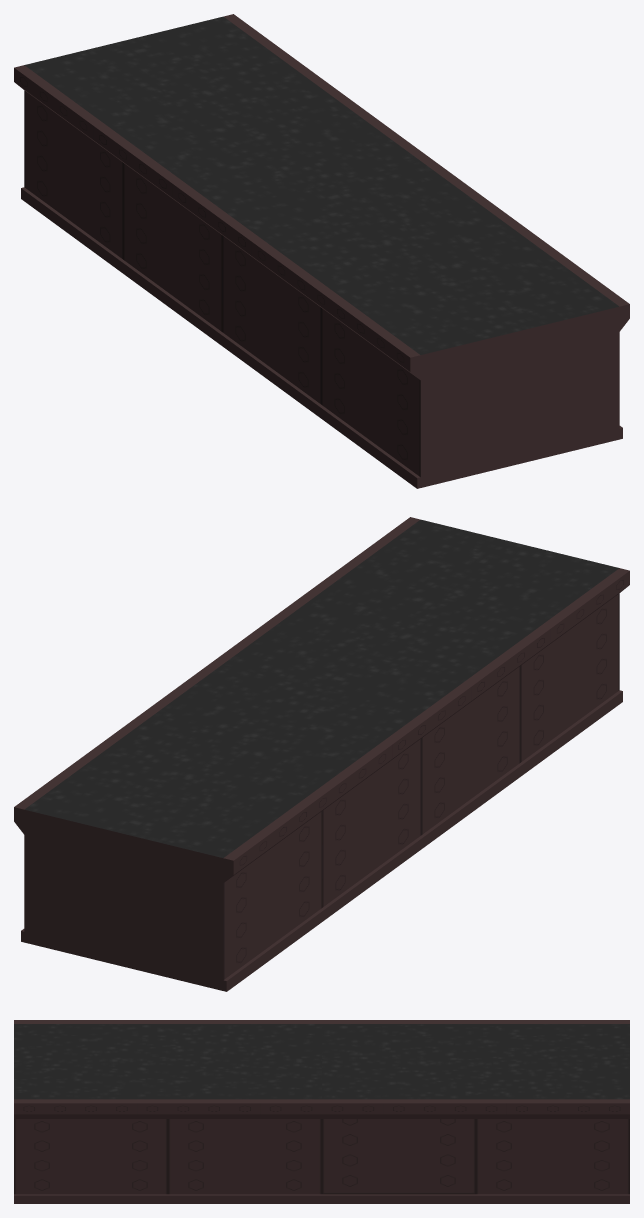
Rendered from SW_ENV_EL_TrackBase_10m.fbx.
3 renders of one model, top to bottom at view 1: azimuth 30°, elevation 25°; view 2: azimuth 150°, elevation 25°; view 3: azimuth 270°, elevation 25°, orthographic. The views are drawn at different scales.
Visible parts, largest first — view 1: SW_ENV_EL_TrackBase_10m; view 2: SW_ENV_EL_TrackBase_10m; view 3: SW_ENV_EL_TrackBase_10m.
Boxes of the visible parts, x1=… form: SW_ENV_EL_TrackBase_10m: x1=14, y1=14, x2=629, y2=488; SW_ENV_EL_TrackBase_10m: x1=14, y1=517, x2=629, y2=991; SW_ENV_EL_TrackBase_10m: x1=14, y1=1020, x2=629, y2=1203.
Bounding box in the file's own units: 320 × 185 × 1000.
